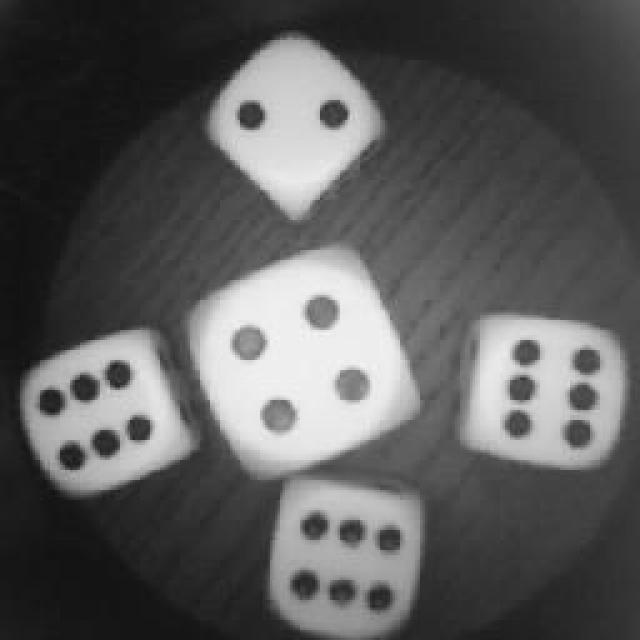dice_2: (208, 28, 400, 228)
dice_4: (188, 242, 422, 478)
dice_6: (20, 325, 198, 507), (457, 298, 635, 472), (262, 472, 428, 640)
